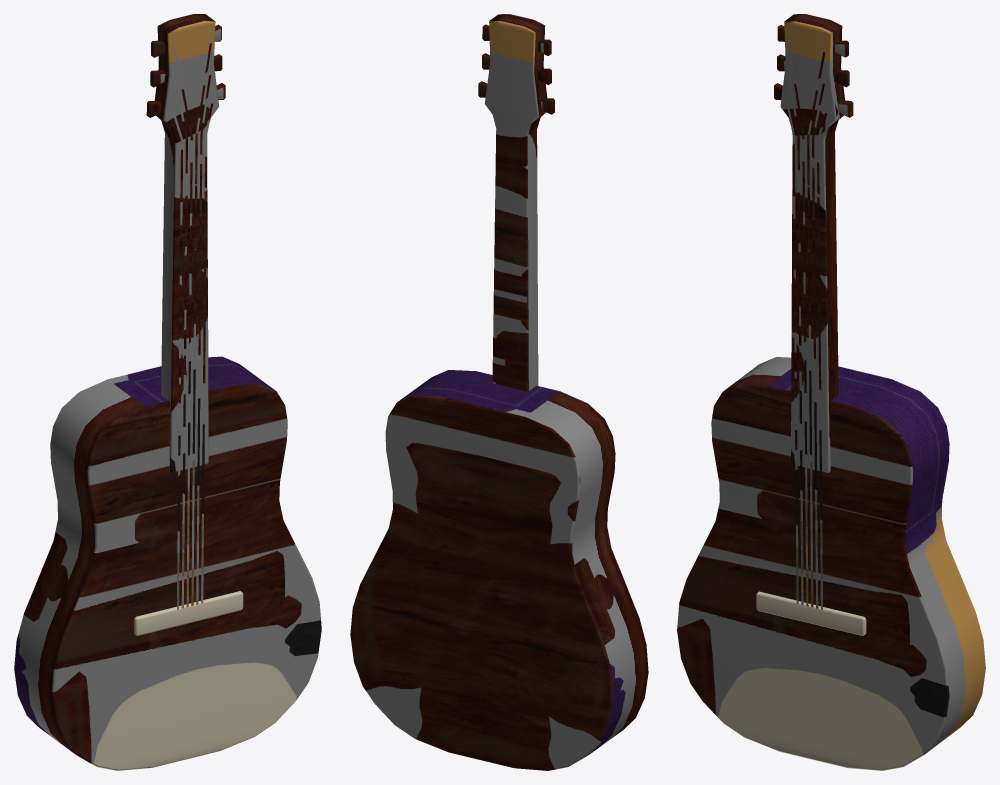
Rendered from Guitar.fbx.
3 renders of one model, left to right at view 1: azimuth 30°, elevation 25°; view 2: azimuth 150°, elevation 25°; view 3: azimuth 330°, elevation 25°, orthographic. The views are drawn at different scales.
Visible parts, largest first — view 1: Guitar1; view 2: Guitar1; view 3: Guitar1.
Boxes of the visible parts, bbox=[...] form: Guitar1: bbox=[14, 14, 321, 770]; Guitar1: bbox=[350, 14, 648, 770]; Guitar1: bbox=[677, 14, 985, 770].
Bounding box in the file's own units: 52.62 × 137 × 15.51.
